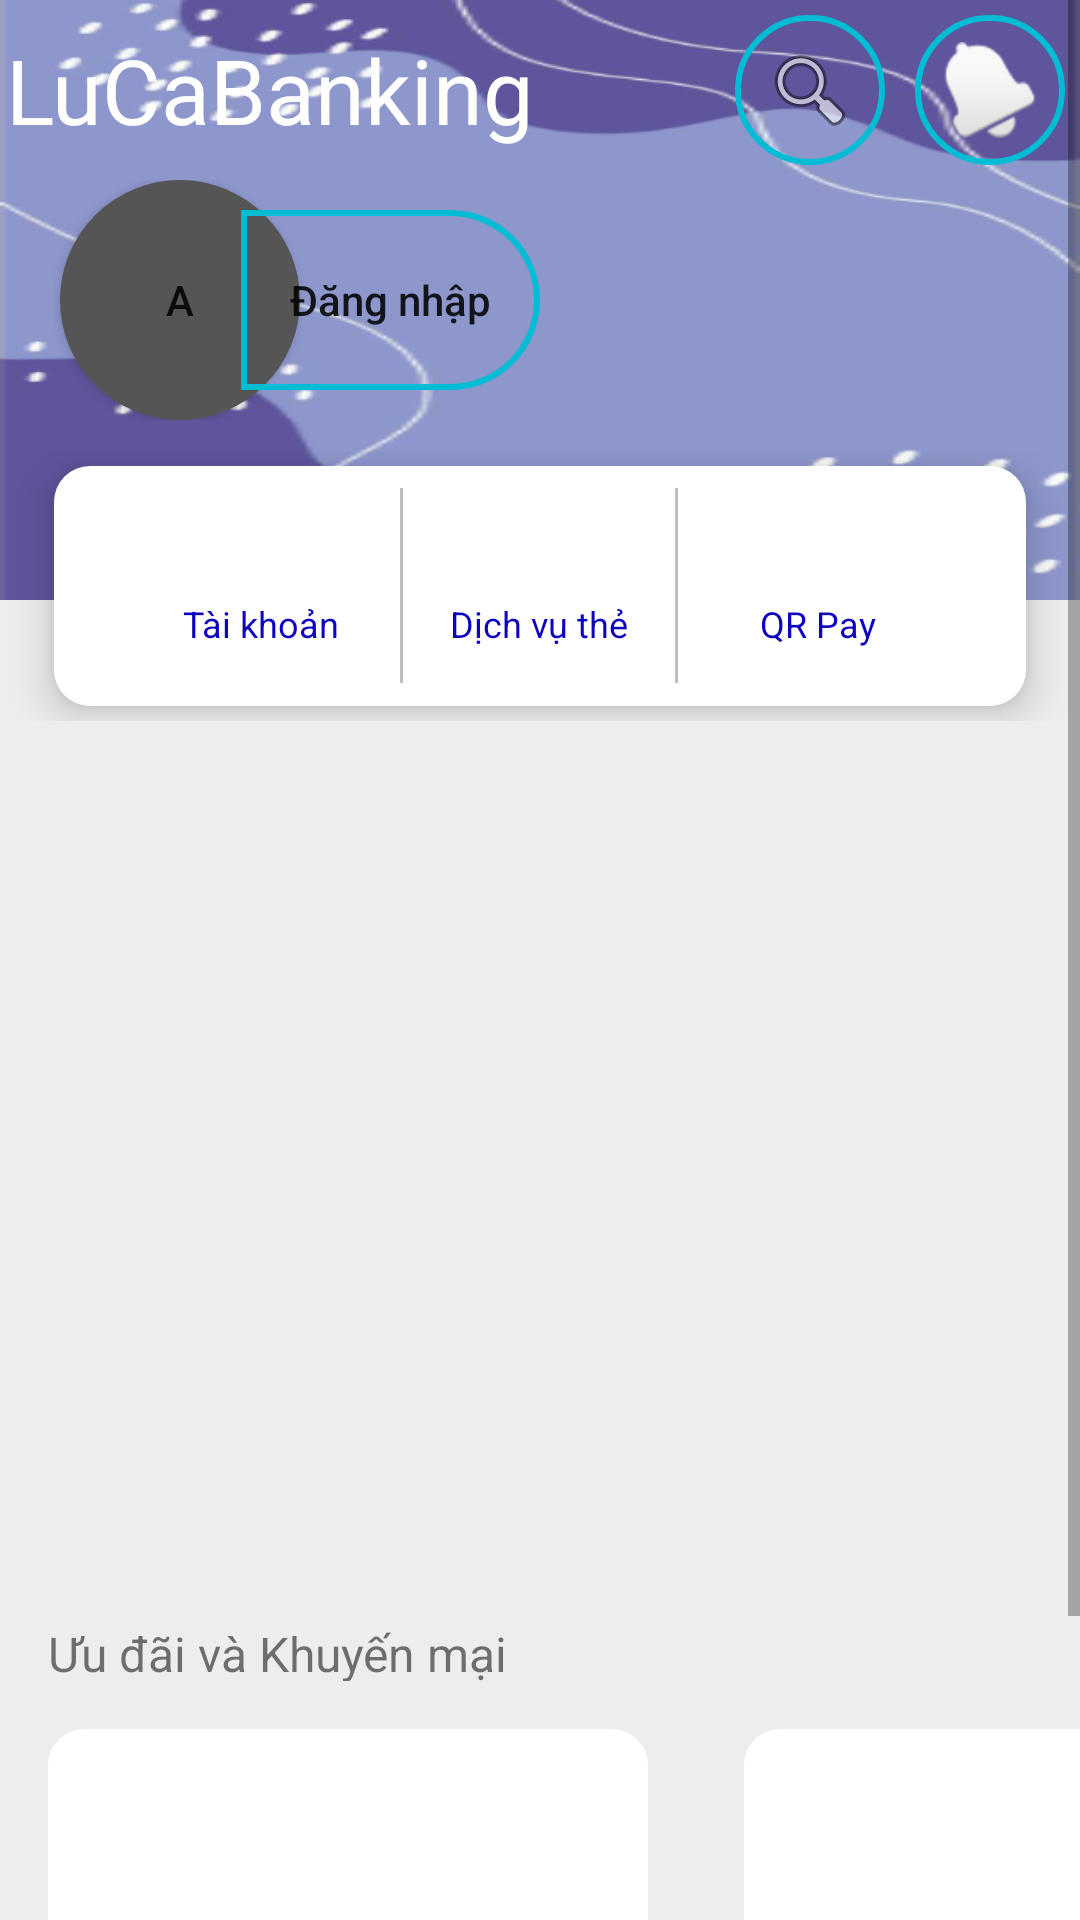

Point at icon controls on the screen. Image size 1080 × 1920, points as [x,y].
popup reminder: [990,90]
search: [810,90]
